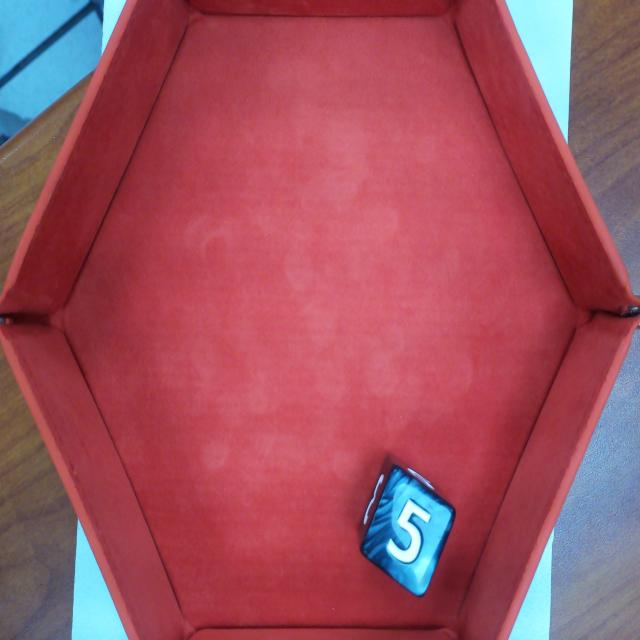dice: (360, 463, 456, 598)
